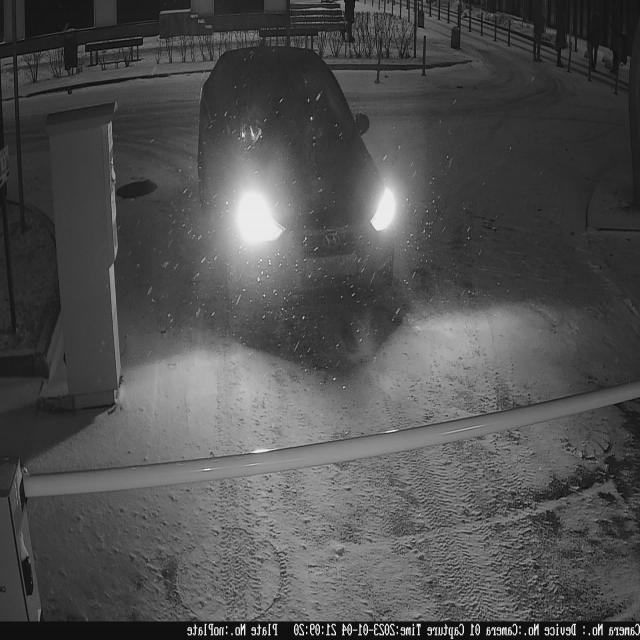car-plate-numbers: (301, 245, 363, 287)
